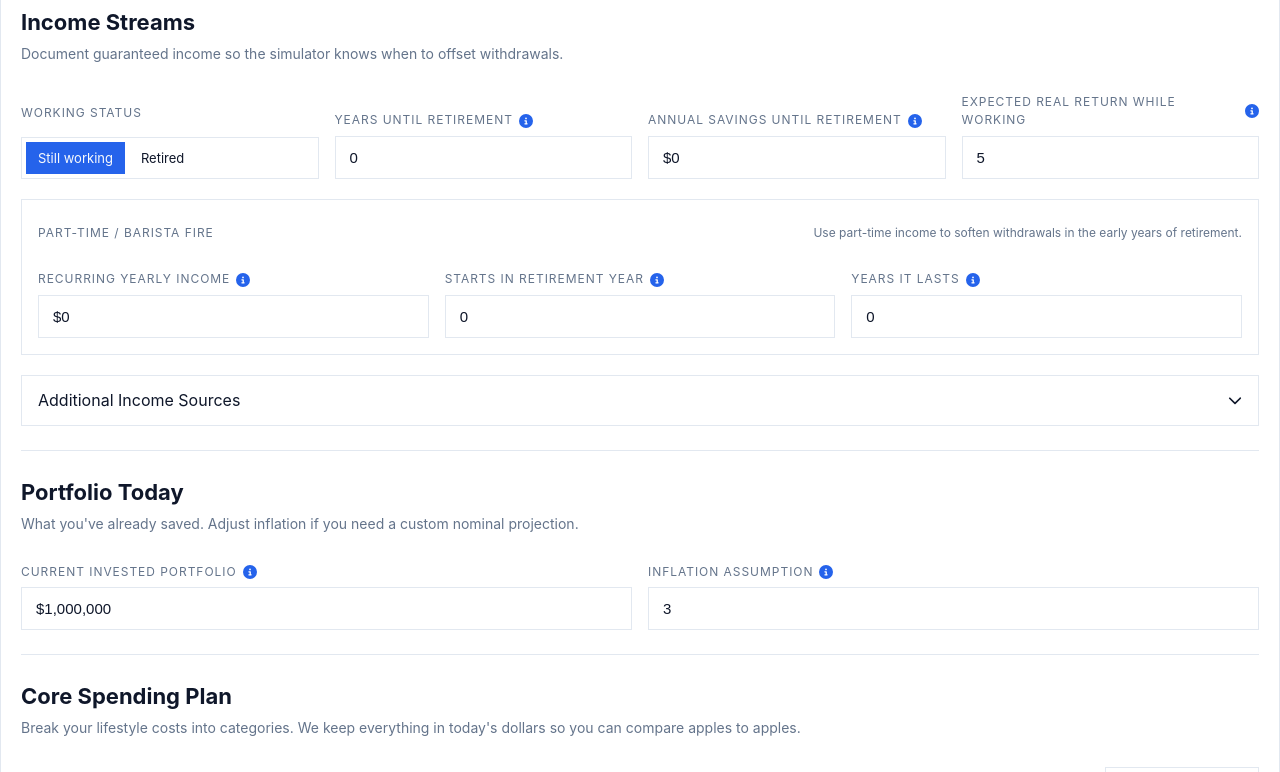
it: Inputs › shows expense and income controls
This screenshot has width=1280, height=772.
(page scrolled)
Click the button "Additional Income Sources" at (139, 400), box top-left (22, 376), bottom-right (1258, 425)
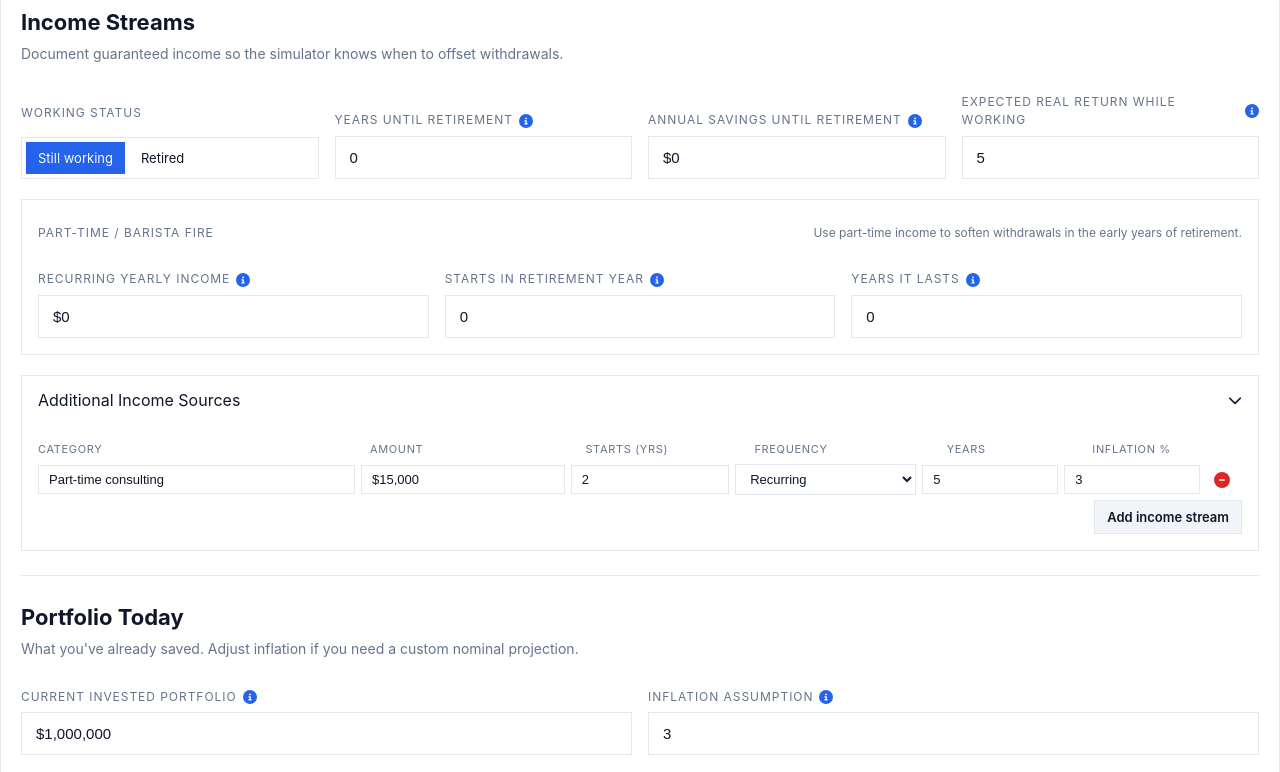
Check: the button "Add income stream" is shown, box top-left (1094, 500), bottom-right (1242, 534)
